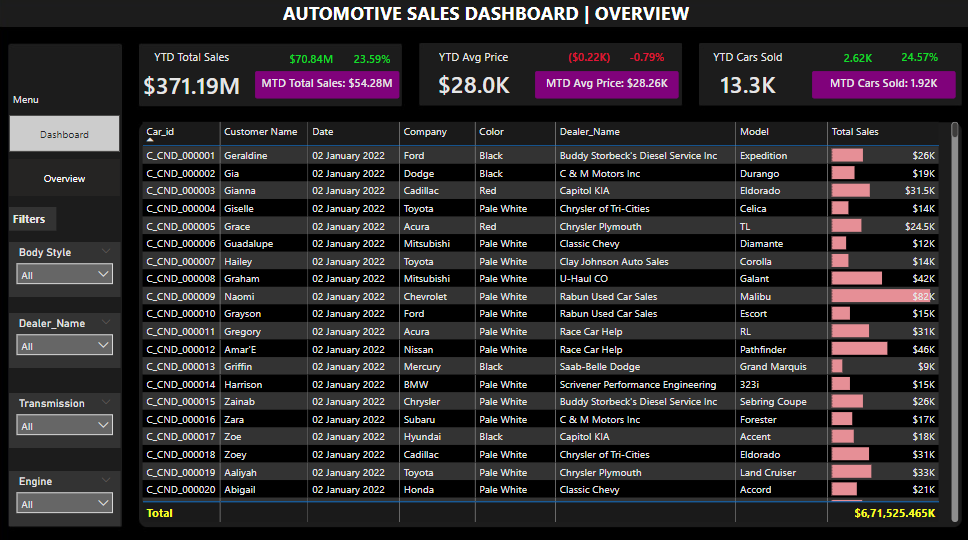

The dashboard page shown, as its layout file describes it:
{"tool":"powerbi","page":{"name":"Overview","canvas":[1280,720],"ordinal":1},"visuals":[{"type":"card","title":"YTD Total Sales","fields":{"Values":["car_data.YTD Total Sales"]},"box":[185.8,68.8,140.4,74.3],"z":0},{"type":"card","fields":{"Values":["car_data.Sales Difference"]},"box":[378.5,68.8,68.8,28.9],"z":1000},{"type":"card","fields":{"Values":["car_data.YOY Sales Growth"]},"box":[458.3,68.8,68.8,28.9],"z":2000},{"type":"card","fields":{"Values":["car_data.MTD KPI"]},"box":[338.6,97.7,188.6,35.8],"z":3000},{"type":"card","title":"YTD Avg Price","fields":{"Values":["car_data.YTD Avg Price"]},"box":[554.9,69.5,140.5,73.8],"z":4000},{"type":"card","fields":{"Values":["car_data.Avg Price Difference"]},"box":[742.2,68.1,68.1,28.4],"z":5000},{"type":"card","fields":{"Values":["car_data.YoY Avg Price Growth"]},"box":[818.2,67.7,67.7,28.3],"z":6000},{"type":"card","fields":{"Values":["car_data.MTD Avg Price KPI"]},"box":[705.6,97.8,187.8,35.6],"z":7000},{"type":"card","title":"YTD Cars Sold","fields":{"Values":["car_data.YTD Cars Sold"]},"box":[913.3,70,141.1,73.3],"z":8000},{"type":"card","fields":{"Values":["car_data.Cars Sold Diff"]},"box":[1094.4,64.4,67.8,36.7],"z":9000},{"type":"card","fields":{"Values":["car_data.YoY Cars Sold Growth"]},"box":[1175.6,63.3,67.8,36.7],"z":10000},{"type":"card","fields":{"Values":["car_data.MTD Cars Sold KPI"]},"box":[1067.8,97.8,187.8,35.6],"z":11000},{"type":"textbox","box":[369.9,0,569.8,52.4],"z":12000},{"type":"slicer","fields":{"Values":["car_data.Body Style"]},"box":[16.8,322.5,146.1,72.2],"z":13000},{"type":"slicer","fields":{"Values":["car_data.Dealer_Name"]},"box":[16.8,414.9,146.1,72.2],"z":14000},{"type":"slicer","fields":{"Values":["car_data.Engine"]},"box":[16.8,621.5,146.1,72.2],"z":15000},{"type":"slicer","fields":{"Values":["car_data.Transmission"]},"box":[16.8,519.1,146.1,72.2],"z":16000},{"type":"textbox","box":[17,276.4,62.4,31.2],"z":17000},{"type":"tableEx","fields":{"Values":["car_data.Car_id","car_data.Customer Name","car_data.Date","car_data.Company","car_data.Color","car_data.Dealer_Name","car_data.Model","Sum(car_data.Price ($))"]},"box":[185.7,160.2,1078.6,534.3],"z":18000},{"type":"pageNavigator","box":[17,155.9,146,106.3],"z":19000},{"type":"textbox","box":[17,120.5,62.4,35.4],"z":20000}]}

Visuals, with their boxes on the page's 1280x720 design canvas (x1, y1, x2, y2). These are canvas units, not pixel positions in the 968x540 screenshot, which may show the page scaled, cropped or inside an application window:
"YTD Total Sales" card: 186:69:326:143
card - car_data.Sales Difference: 378:69:447:98
card - car_data.YOY Sales Growth: 458:69:527:98
card - car_data.MTD KPI: 339:98:527:134
"YTD Avg Price" card: 555:70:695:143
card - car_data.Avg Price Difference: 742:68:810:96
card - car_data.YoY Avg Price Growth: 818:68:886:96
card - car_data.MTD Avg Price KPI: 706:98:893:133
"YTD Cars Sold" card: 913:70:1054:143
card - car_data.Cars Sold Diff: 1094:64:1162:101
card - car_data.YoY Cars Sold Growth: 1176:63:1243:100
card - car_data.MTD Cars Sold KPI: 1068:98:1256:133
textbox: 370:0:940:52
slicer - car_data.Body Style: 17:322:163:395
slicer - car_data.Dealer_Name: 17:415:163:487
slicer - car_data.Engine: 17:622:163:694
slicer - car_data.Transmission: 17:519:163:591
textbox: 17:276:79:308
tableEx - car_data.Car_id x car_data.Customer Name: 186:160:1264:694
pageNavigator: 17:156:163:262
textbox: 17:120:79:156
